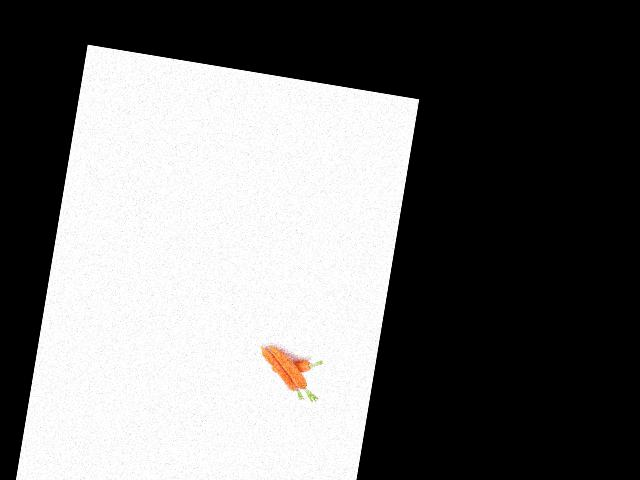carrot: (264, 353, 320, 381)
